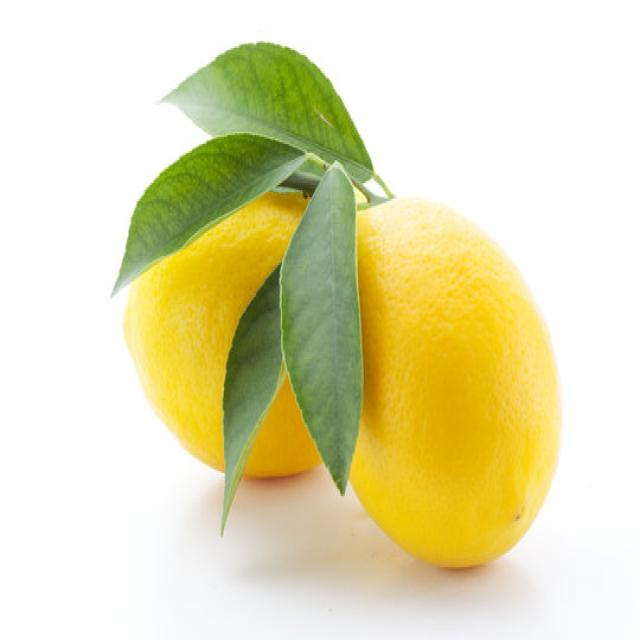Lemon: (331, 192, 561, 560), (121, 185, 326, 480)
